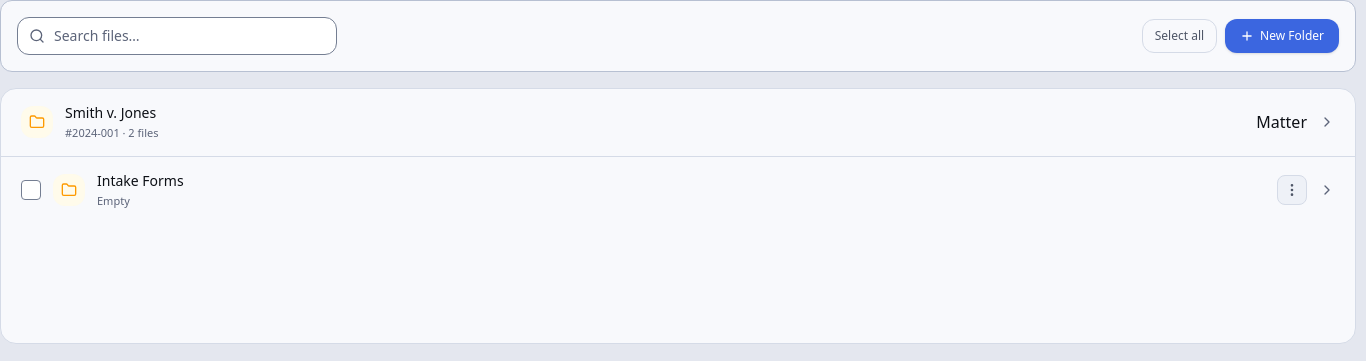
Test: leaves the linked folders out of search results
This screenshot has width=1366, height=361.
Check: the text "Smith v. Jones" is shown, box [65, 103, 156, 122]
Step 1. Type "smith" into the field with placeholder "Search files…" → [177, 36], box [17, 17, 337, 55]
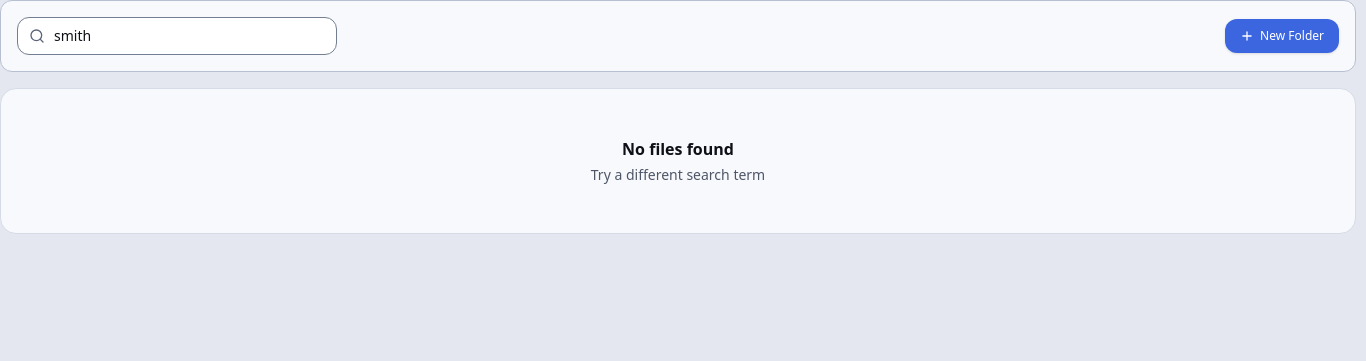
Check: the heading "No files found" is shown, box [622, 138, 734, 160]
Check: the button "Smith v. Jones" is gone
